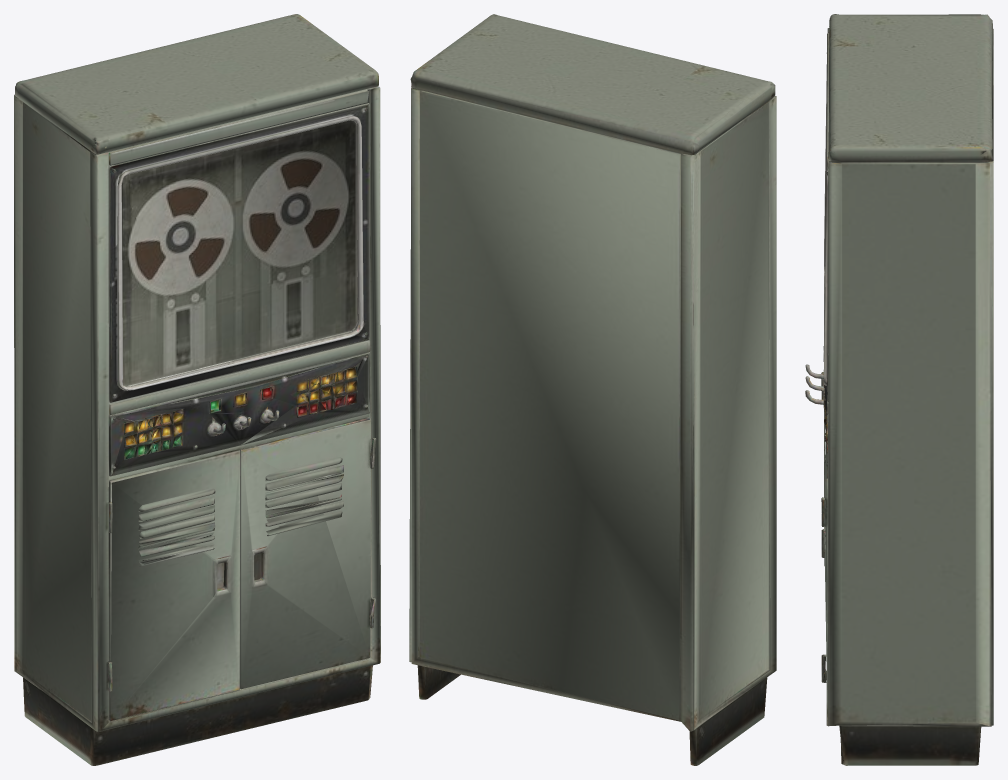
File: bunker-mainframe-tape-cabinet.glb
3 renders of one model, left to right at view 1: azimuth 30°, elevation 25°; view 2: azimuth 150°, elevation 25°; view 3: azimuth 270°, elevation 25°, orthographic. The views are drawn at different scales.
Visible parts, largest first — view 1: bunker-mainframe-tape-cabinet; view 2: bunker-mainframe-tape-cabinet; view 3: bunker-mainframe-tape-cabinet.
Boxes of the visible parts, x1=… form: bunker-mainframe-tape-cabinet: x1=14, y1=14, x2=380, y2=765; bunker-mainframe-tape-cabinet: x1=409, y1=14, x2=776, y2=765; bunker-mainframe-tape-cabinet: x1=805, y1=14, x2=993, y2=765.
Size of the model in its own units: 0.8969 by 1.9 by 0.5245.
1 material, 1 textured.
